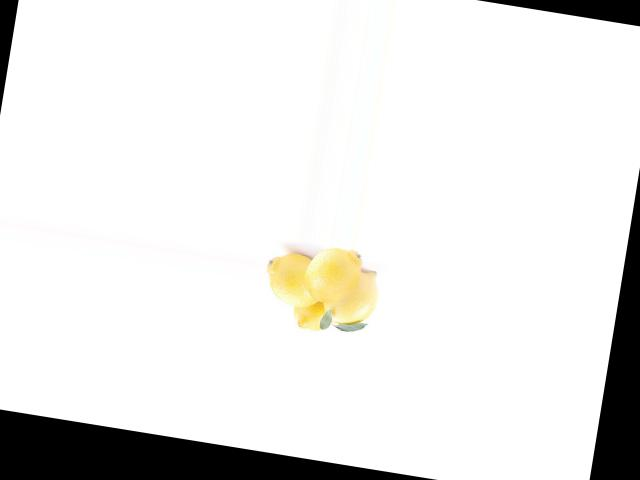lemon: (258, 254, 326, 311)
